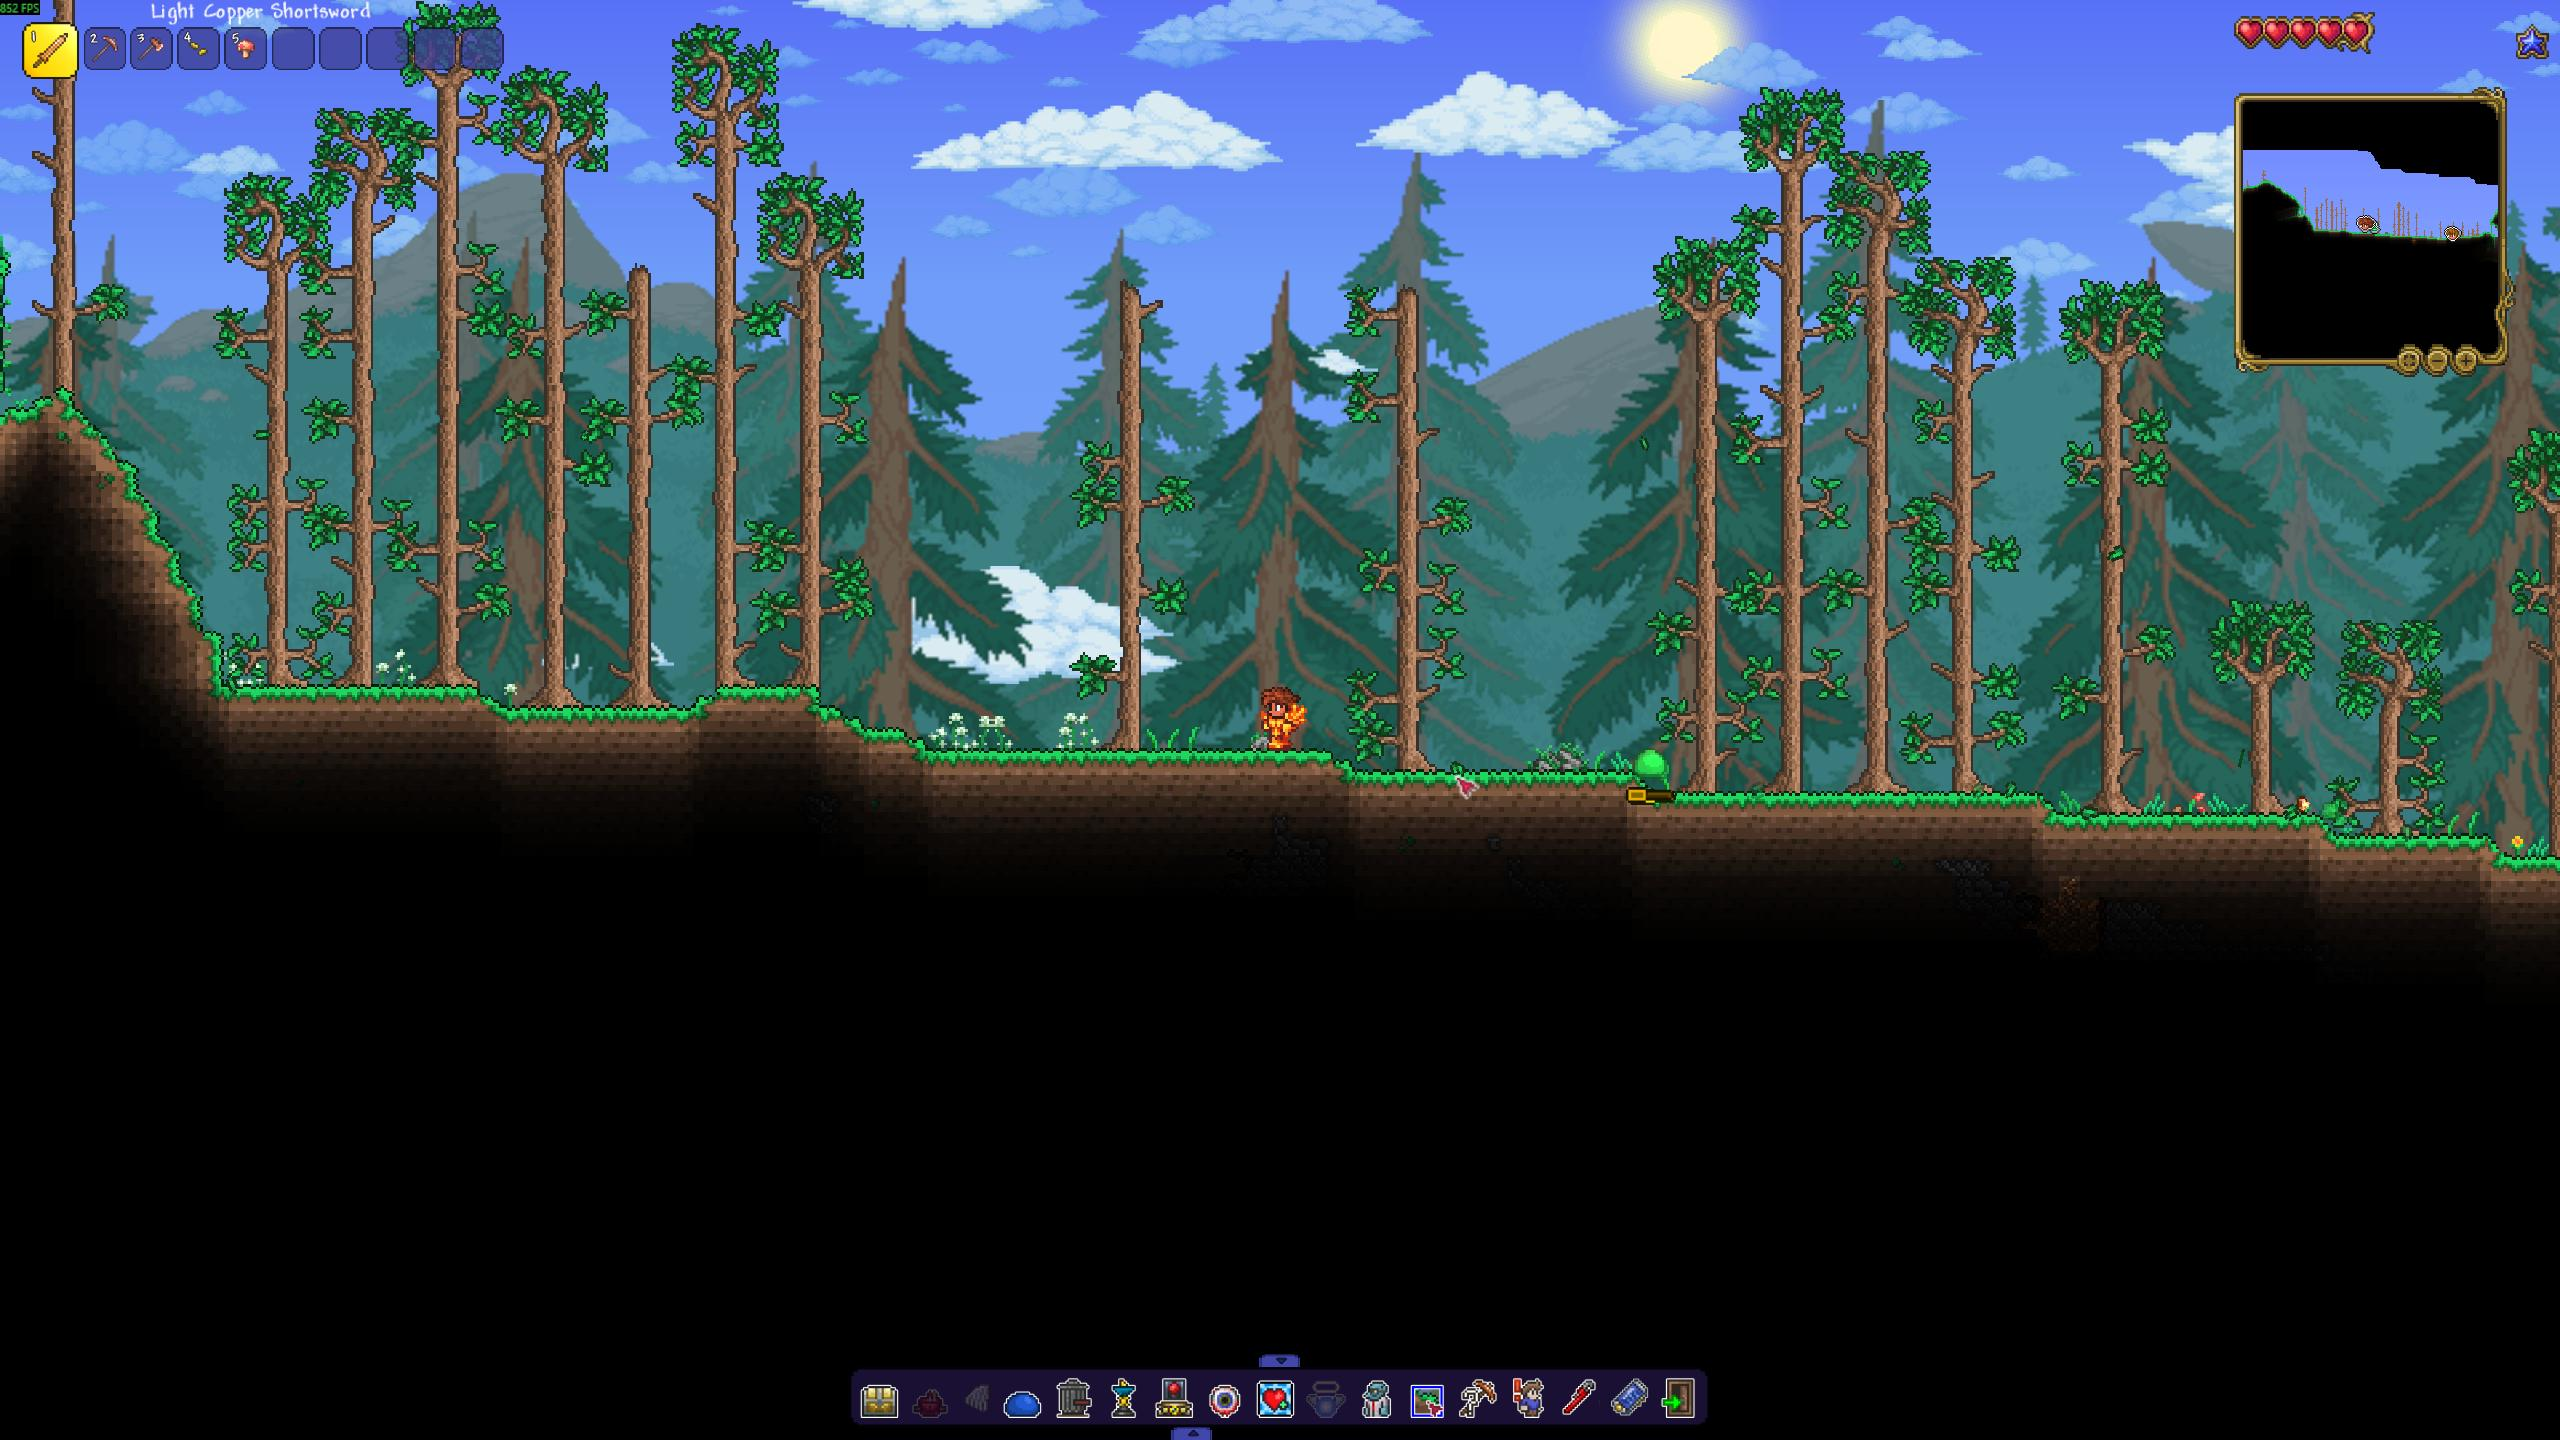Green Slime: (1632, 749, 1669, 777)
